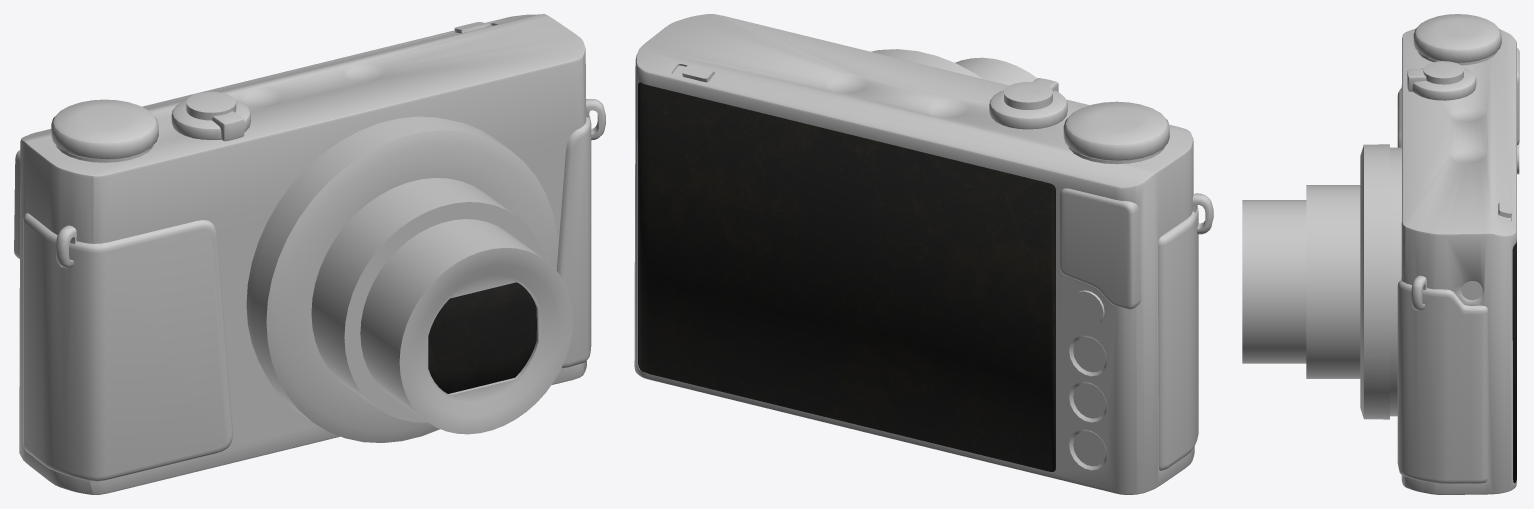
3 views of the same model, side by side, from view 1: azimuth 30°, elevation 25°; view 2: azimuth 150°, elevation 25°; view 3: azimuth 270°, elevation 25° (orthographic). The views are drawn at different scales.
Visible parts, largest first — view 1: Camera_Lowpoly, Zoommechanism_Lowpoly, Lens_Lowpoly_Glass_0, OptionsWheel_Lowpoly, Button_Lowpoly; view 2: Screen_Lowpoly, Camera_Lowpoly, OptionsWheel_Lowpoly, Button_Lowpoly, Zoommechanism_Lowpoly; view 3: Camera_Lowpoly, Zoommechanism_Lowpoly, OptionsWheel_Lowpoly, Button_Lowpoly, Screen_Lowpoly.
Part boxes in pixels (bbox=[...]): Camera_Lowpoly: bbox=[14, 14, 605, 494]; Zoommechanism_Lowpoly: bbox=[246, 116, 573, 442]; Lens_Lowpoly_Glass_0: bbox=[428, 282, 536, 393]; OptionsWheel_Lowpoly: bbox=[51, 99, 158, 162]; Button_Lowpoly: bbox=[171, 91, 250, 141]; Screen_Lowpoly: bbox=[638, 82, 1055, 471]; Camera_Lowpoly: bbox=[634, 14, 1213, 494]; OptionsWheel_Lowpoly: bbox=[1063, 101, 1169, 164]; Button_Lowpoly: bbox=[989, 78, 1067, 129]; Zoommechanism_Lowpoly: bbox=[871, 49, 1036, 85]; Camera_Lowpoly: bbox=[1397, 28, 1519, 494]; Zoommechanism_Lowpoly: bbox=[1242, 144, 1401, 419]; OptionsWheel_Lowpoly: bbox=[1413, 14, 1501, 65]; Button_Lowpoly: bbox=[1407, 61, 1476, 100]; Screen_Lowpoly: bbox=[1512, 241, 1516, 482].
Size of the model in its own units: 122 by 73.28 by 65.43.
